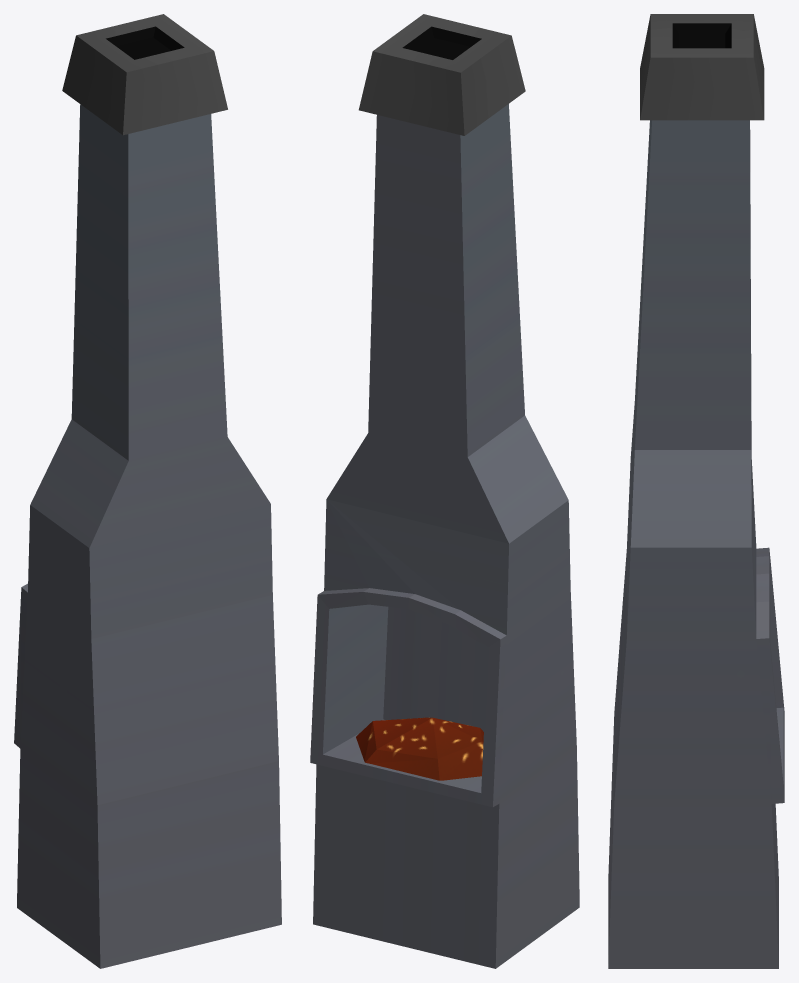
File: Forge_3_LOD1.fbx
3 renders of one model, left to right at view 1: azimuth 30°, elevation 25°; view 2: azimuth 150°, elevation 25°; view 3: azimuth 270°, elevation 25°, orthographic. The views are drawn at different scales.
Visible parts, largest first — view 1: polySurface9727; view 2: polySurface9727; view 3: polySurface9727.
Part boxes in pixels (left/top/right/bottom): polySurface9727: left=14, top=14, right=281, bottom=968; polySurface9727: left=310, top=14, right=579, bottom=968; polySurface9727: left=608, top=14, right=784, bottom=968.
Bounding box in the file's own units: 230 × 1050 × 189.
